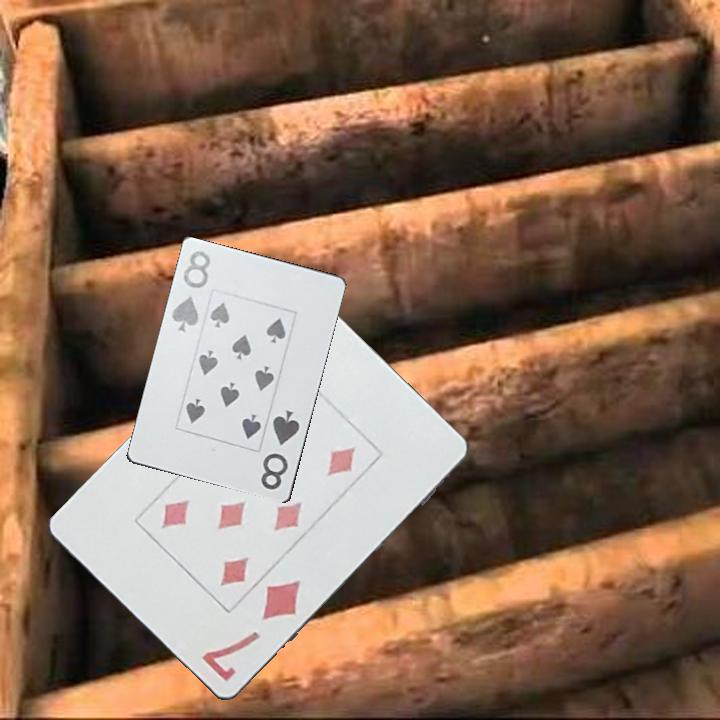7d: (198, 577, 304, 685)
8s: (257, 407, 303, 493), (168, 248, 213, 335)
